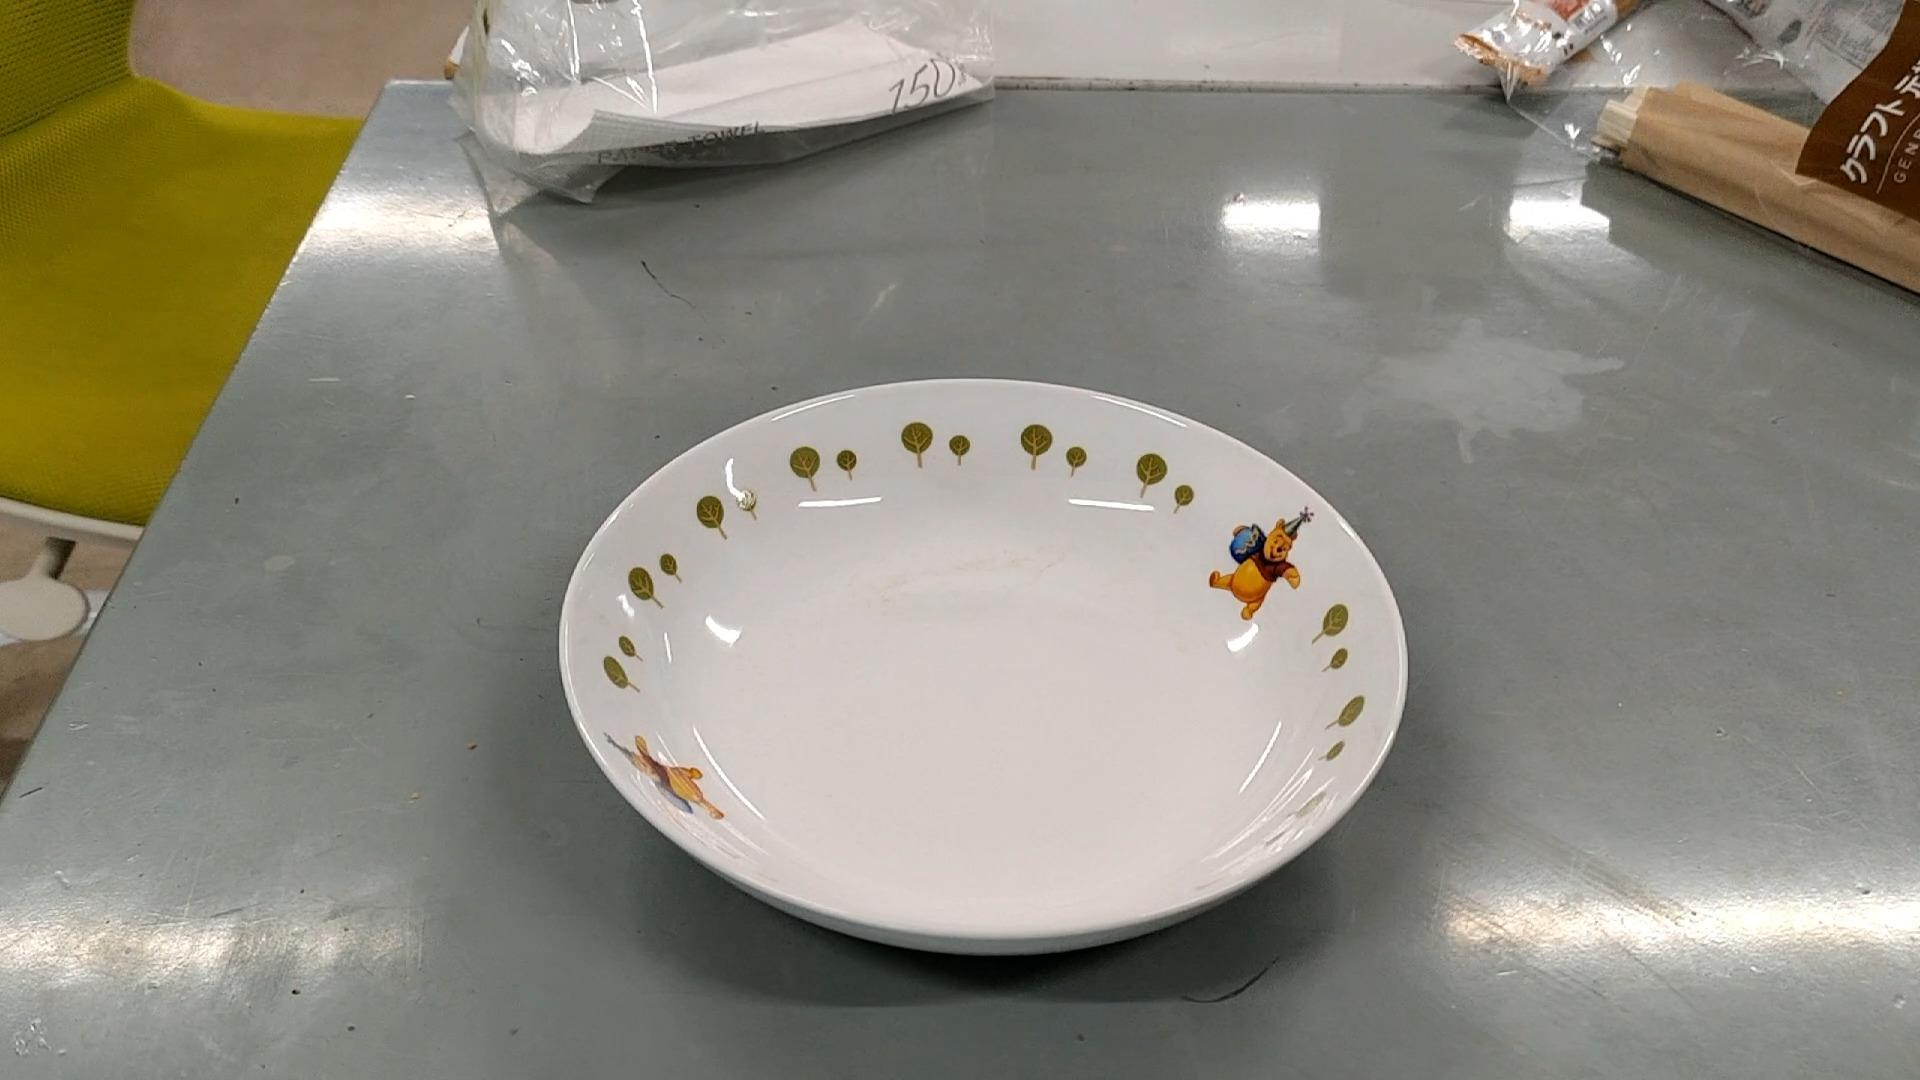plate: (566, 373, 1407, 960)
